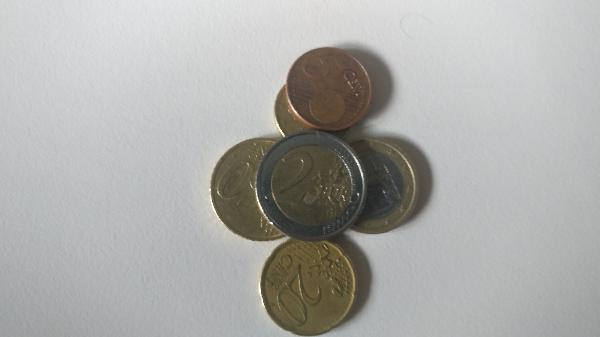Fifty Cent: (208, 132, 297, 233)
Five Cent: (284, 42, 380, 133)
One Euro: (335, 139, 417, 234)
Twenty Cent: (257, 240, 369, 333)
Two Euro: (255, 131, 362, 242)
